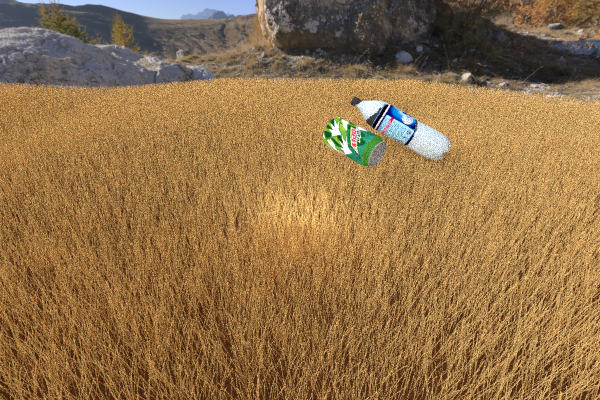Plastic Bottle: (350, 96, 451, 160), (322, 117, 386, 167), (146, 114, 213, 153)
